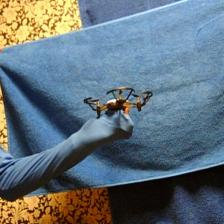drone: (84, 86, 154, 119)
